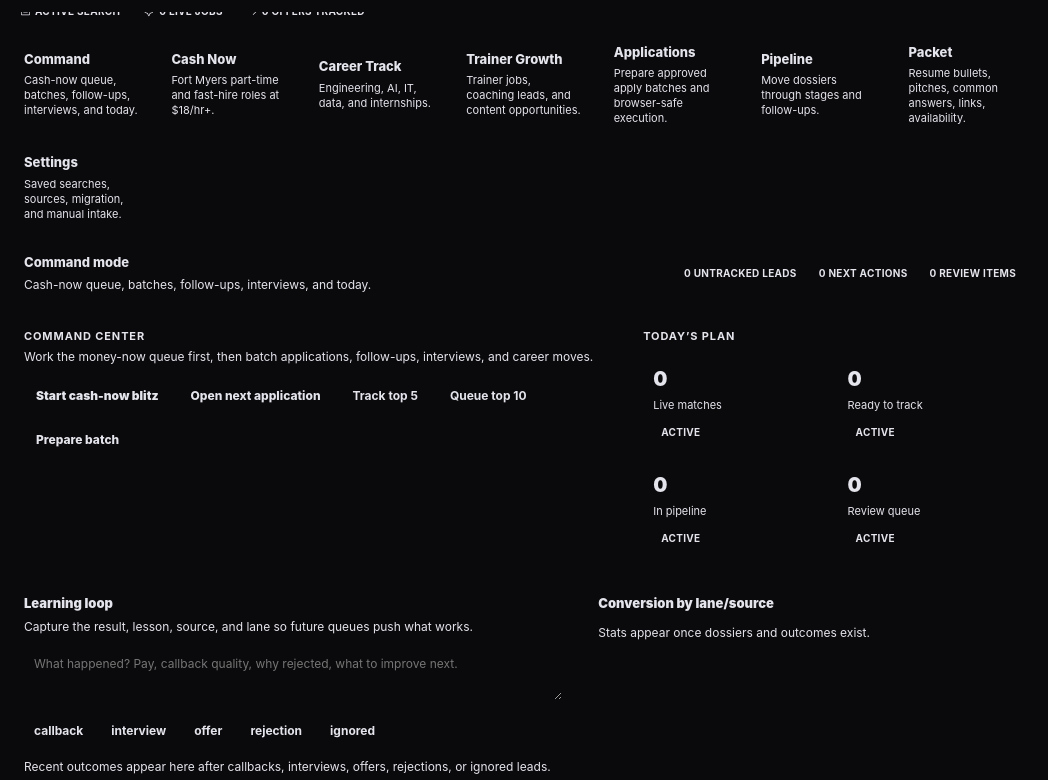
Scenario: CareerOpsPage › starts a cash-now blitz by opening and tracking local browser searches
(page scrolled)
Step 1. Click the button "Start cash-now blitz" → [97, 396], box [24,378,170,414]
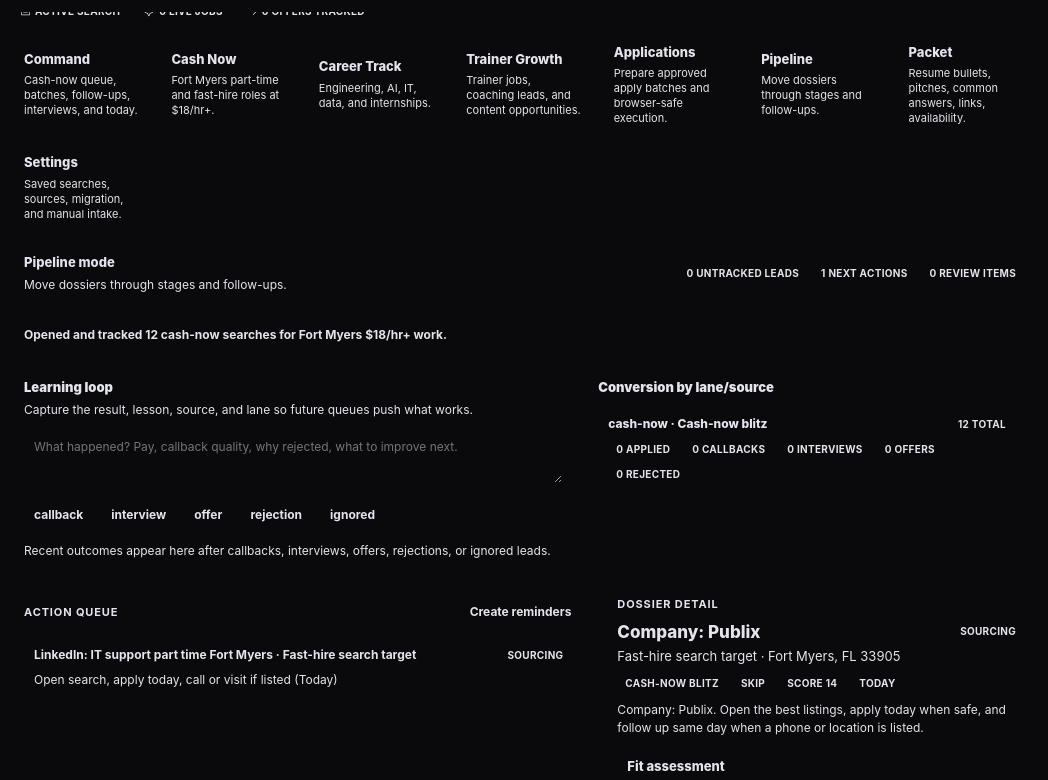
Check: the text "Opened and tracked 12 cash-now searches" is shown, box [24,327,447,342]
